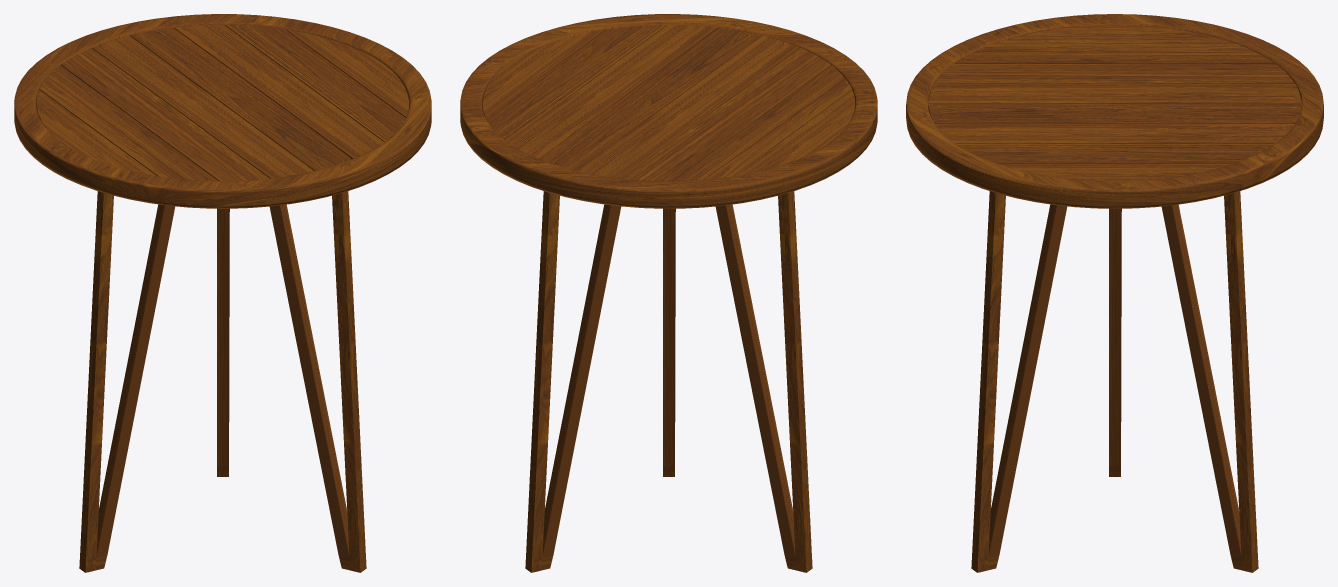
Rendered from Rama-Small-Round-Table.glb.
3 views of the same model, side by side, from view 1: azimuth 30°, elevation 25°; view 2: azimuth 150°, elevation 25°; view 3: azimuth 270°, elevation 25° (orthographic).
Visible parts, largest first — view 1: Cube.001, Cylinder, Cube.003, Cube.002, Cube.004; view 2: Cube.001, Cylinder, Cube.002, Cube.004, Cube.003; view 3: Cube.001, Cylinder, Cube.004, Cube.003, Cube.002.
Boxes of the visible parts, x1,y1,x2,y2 form: Cube.001: [37, 24, 408, 181]; Cylinder: [14, 14, 431, 208]; Cube.003: [269, 191, 366, 572]; Cube.002: [79, 191, 175, 572]; Cube.004: [217, 208, 229, 476]; Cube.001: [483, 24, 854, 181]; Cylinder: [460, 14, 877, 208]; Cube.002: [715, 191, 812, 572]; Cube.004: [525, 191, 621, 572]; Cube.003: [663, 208, 675, 476]; Cube.001: [928, 25, 1301, 181]; Cylinder: [906, 14, 1323, 208]; Cube.004: [1161, 191, 1258, 572]; Cube.003: [971, 191, 1067, 572]; Cube.002: [1109, 208, 1121, 476].
Bounding box in the file's own units: 0.4 × 0.4593 × 0.4.
Materials: 1 (1 with a texture image).
